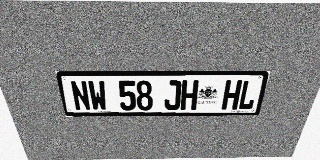5: (118, 81, 136, 110)
8: (136, 80, 153, 110)
H: (221, 80, 242, 110), (180, 80, 199, 110)
J: (164, 80, 181, 110)
L: (237, 80, 259, 110)
N: (69, 81, 91, 111)
W: (87, 81, 108, 111)
